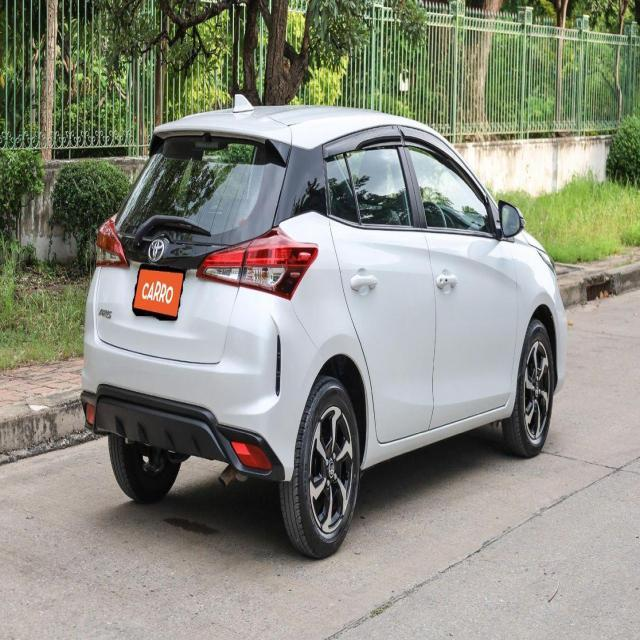Hatchback: (80, 96, 569, 563)
